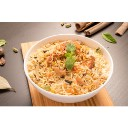briyani: (34, 42, 103, 92)
